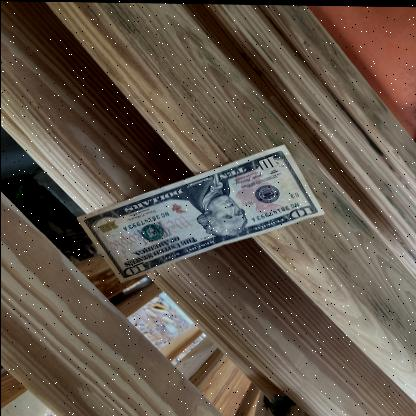ten-front: (83, 146, 321, 289)
